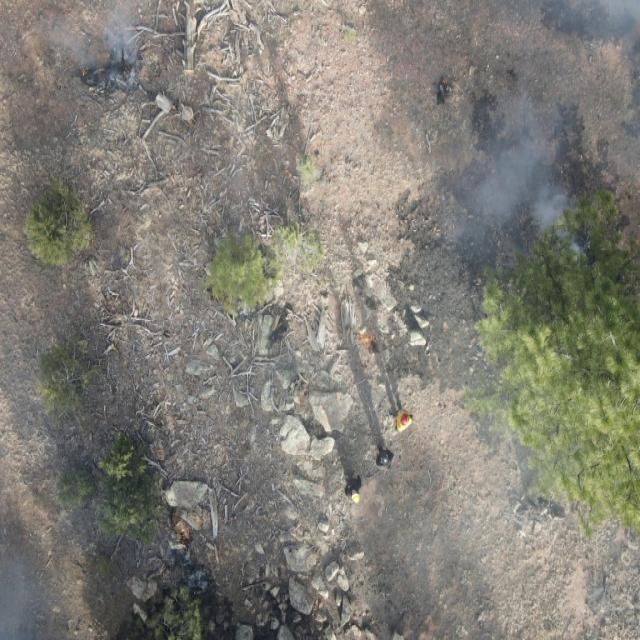fire: (349, 326, 380, 356), (78, 63, 95, 82), (120, 64, 132, 78), (175, 528, 188, 540)
smoke: (433, 98, 574, 258), (55, 5, 143, 96), (543, 0, 640, 55), (0, 531, 42, 640)
